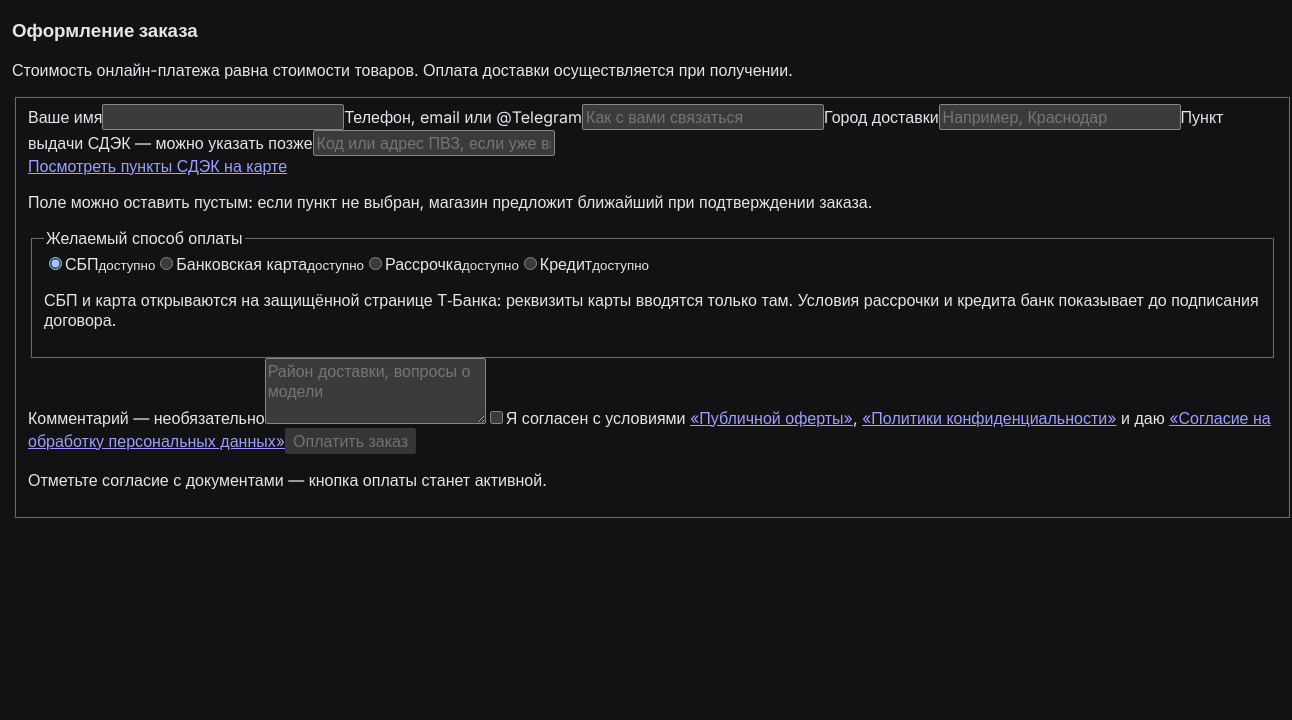
Test: guest inquiry › sends only item IDs and quantities and shows the real server receipt
Type "Анна" into the field labelled "Ваше имя".
click(223, 117); type("Анна")  # box [102,104,344,130]
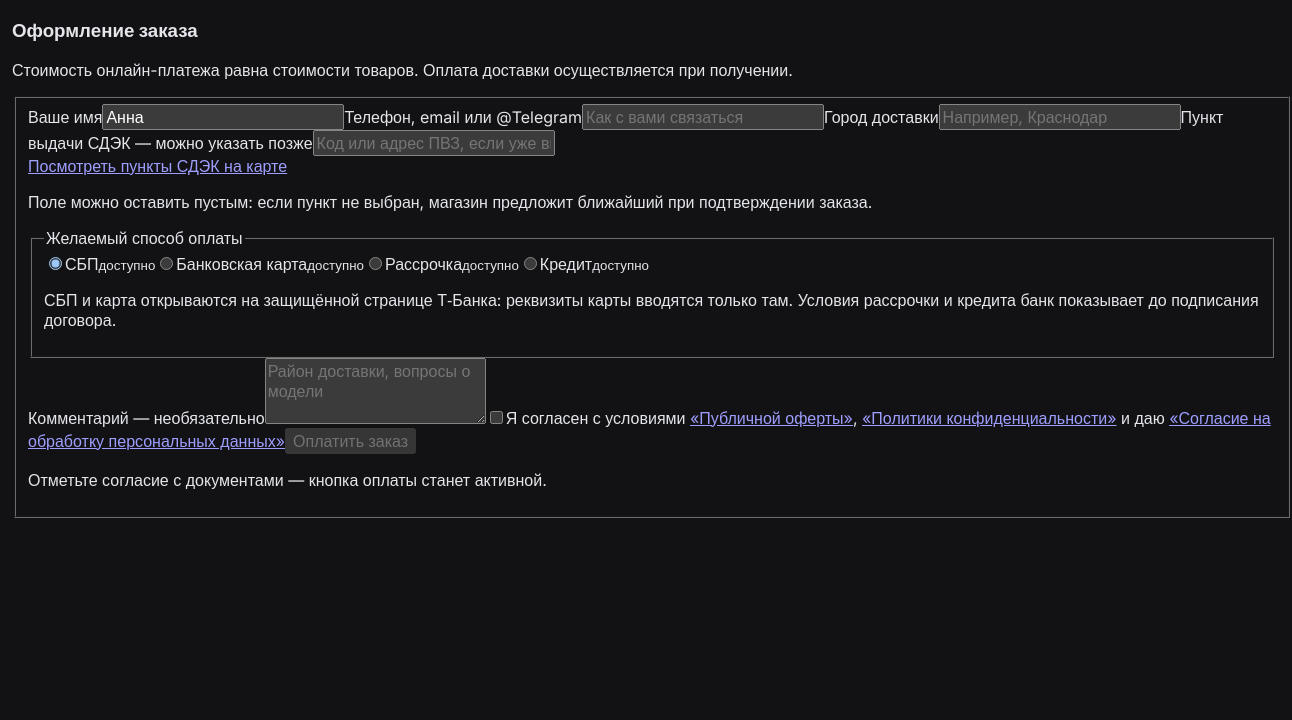
Type "+79001234567" into the field labelled "Телефон, email или @Telegram".
click(703, 117); type("+79001234567")  # box [582,104,824,130]
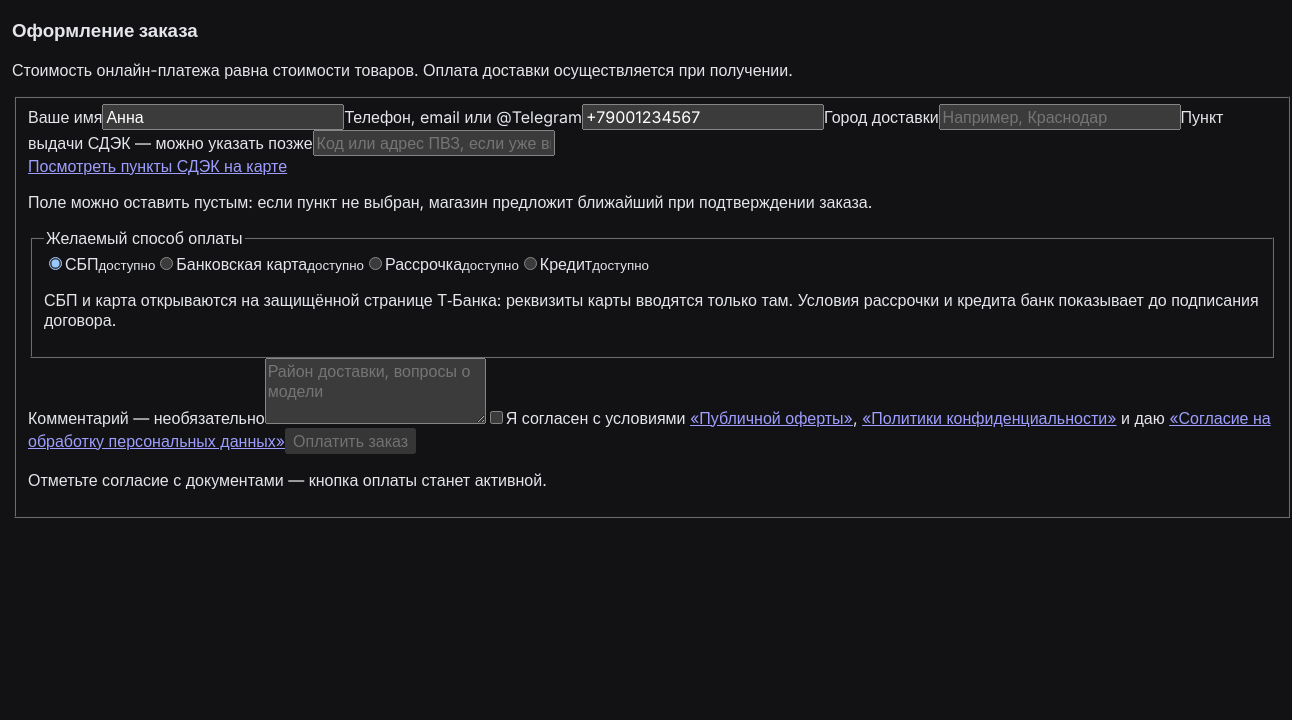
Type "Москва" into the field labelled "Город доставки".
click(1060, 117); type("Москва")  # box [939,104,1181,130]
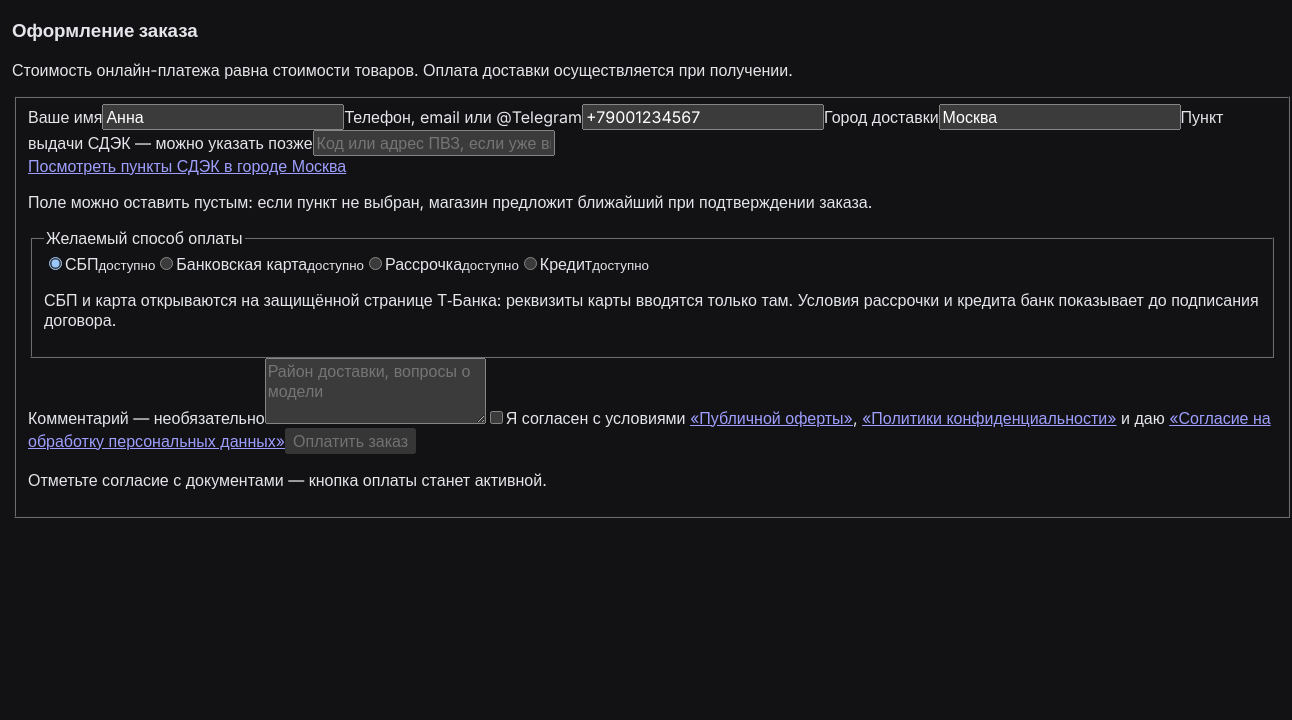
Type "MSK123, ул. Тестовая, 1" into the field labelled "Пункт выдачи СДЭК — можно указать позже".
click(434, 143); type("MSK123, ул. Тестовая, 1")  # box [313,130,555,156]
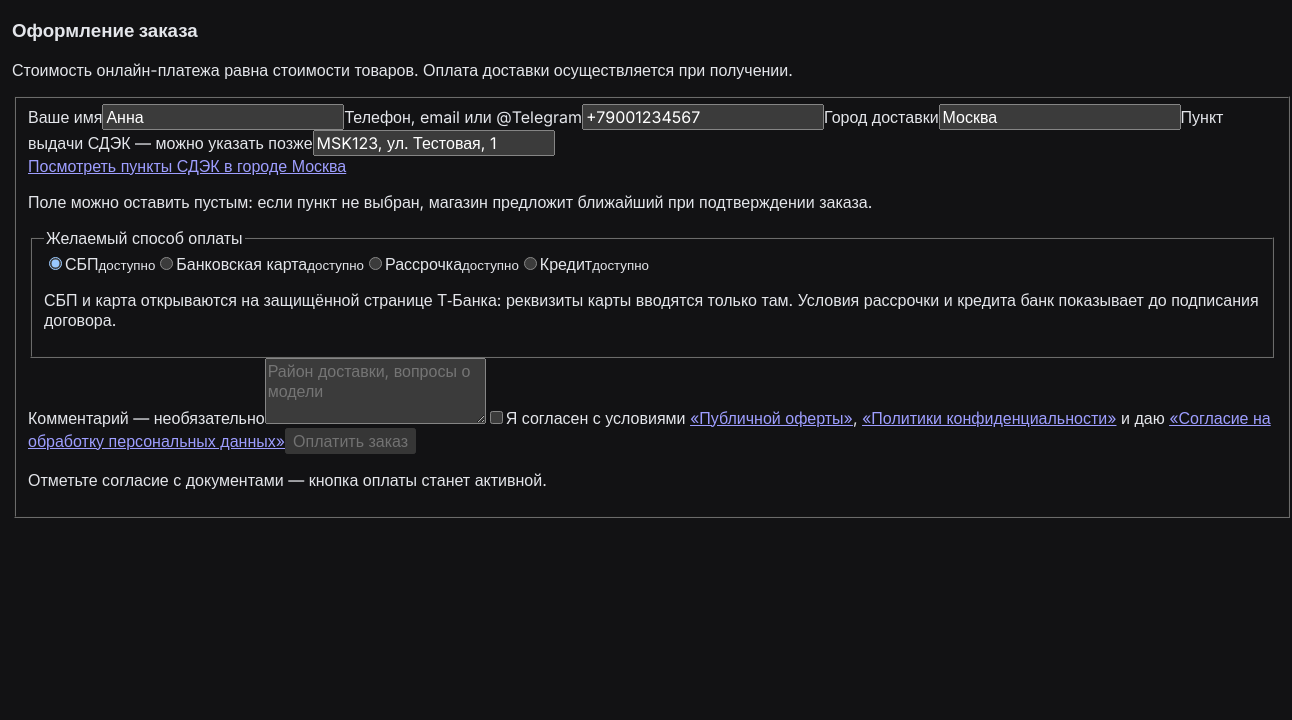
Click the checkbox.
click(496, 417)  # box [490,411,503,424]
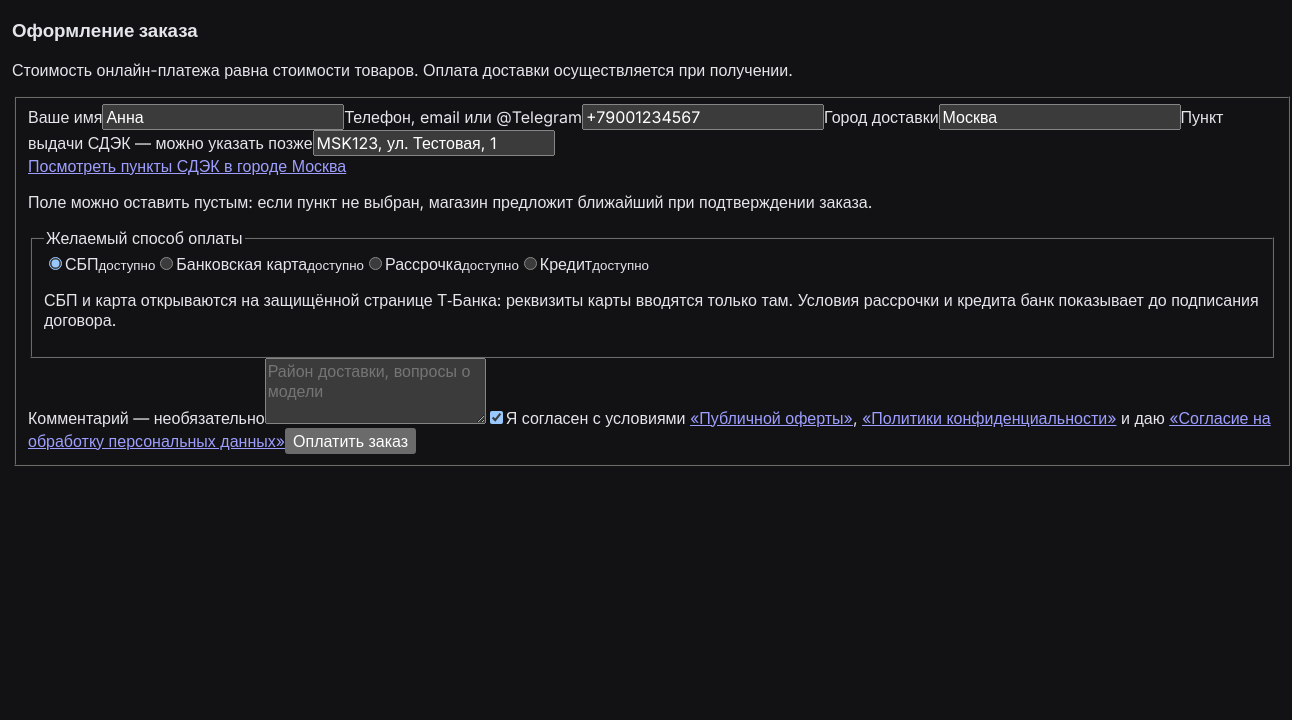
Submit the form named "Заявка в магазин"
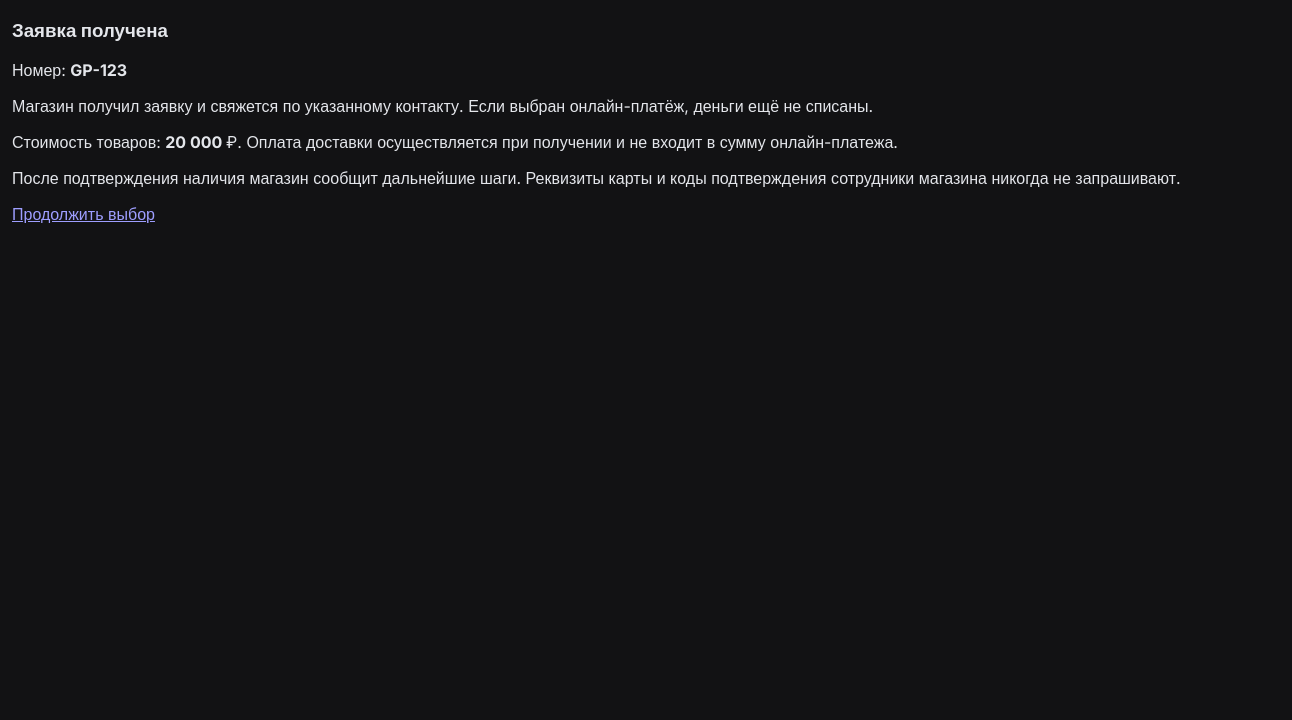
Check: the text "GP-123" is shown, box [70,60,127,80]
Check: the heading "Заявка получена" is shown, box [12,19,168,42]
Check: the button "Оплатить заказ" is gone
